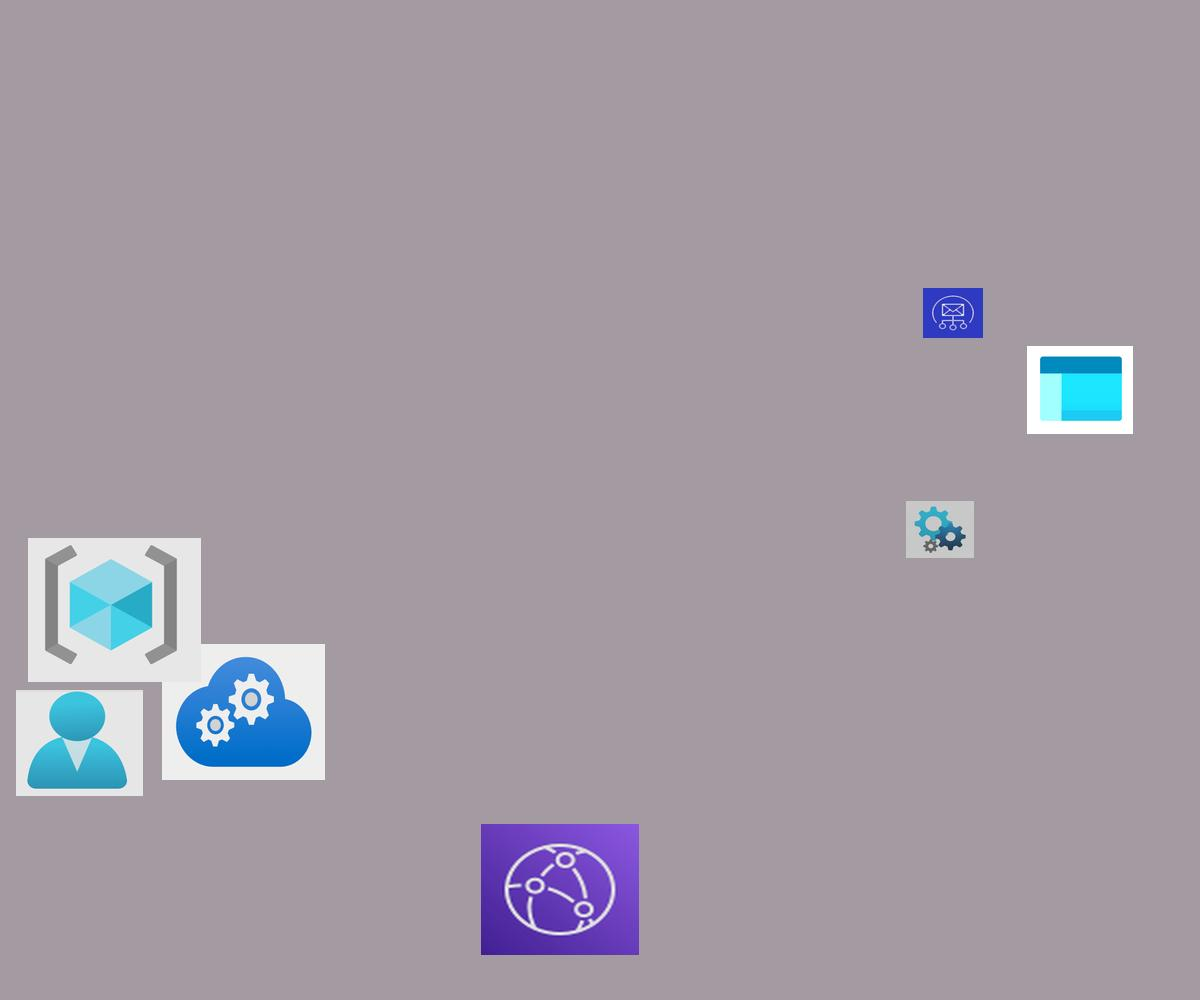AWS-CloudFront: (481, 824, 639, 955)
AWS-Simple-Email-Service: (923, 288, 983, 338)
Azure_api: (906, 501, 974, 558)
Azure_cloud_services: (162, 644, 325, 780)
Azure_management-portal: (1027, 346, 1133, 434)
Azure_resource_group: (28, 538, 201, 682)
Azure_users: (16, 690, 143, 796)
